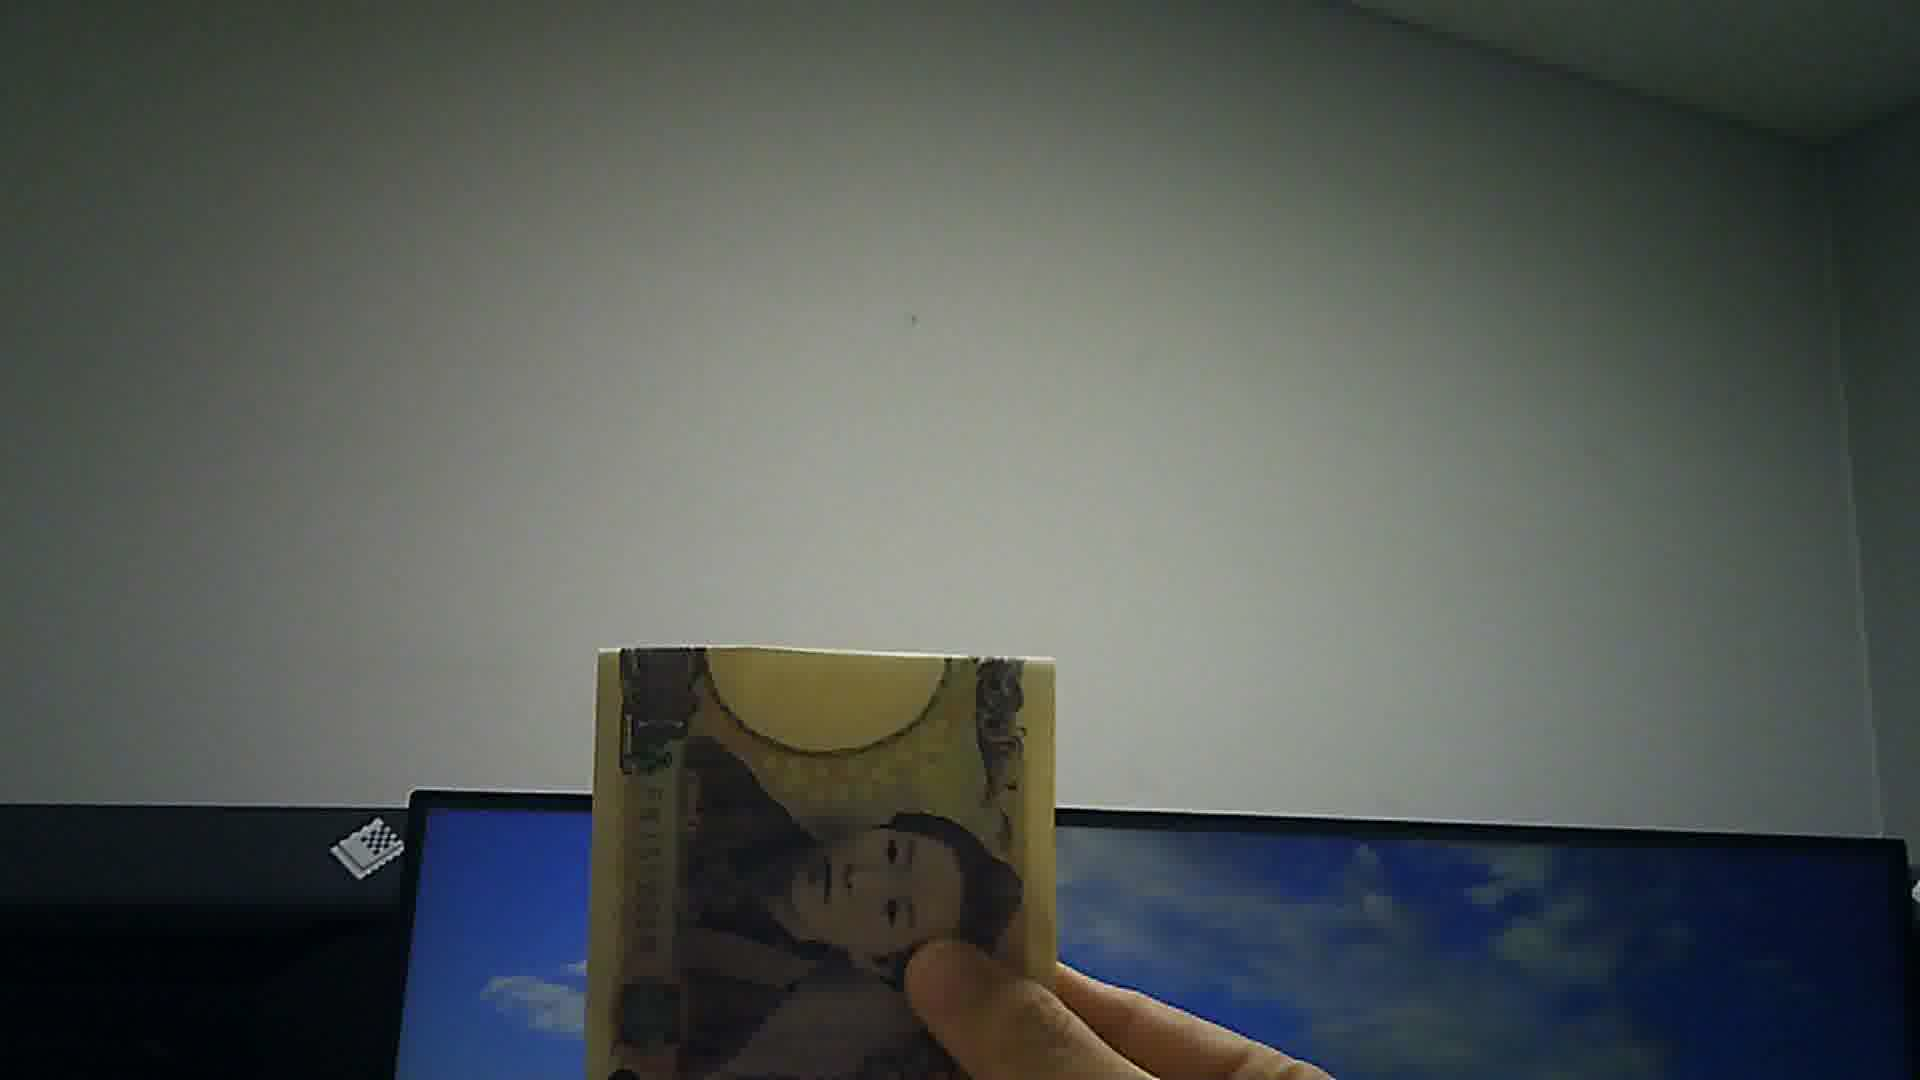5,000 Yen: (570, 626, 1062, 1075)
